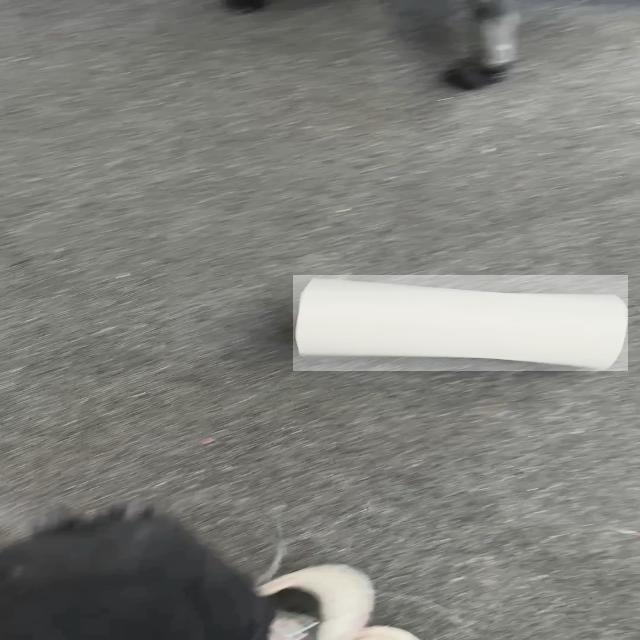Coral: (293, 275, 628, 371)
